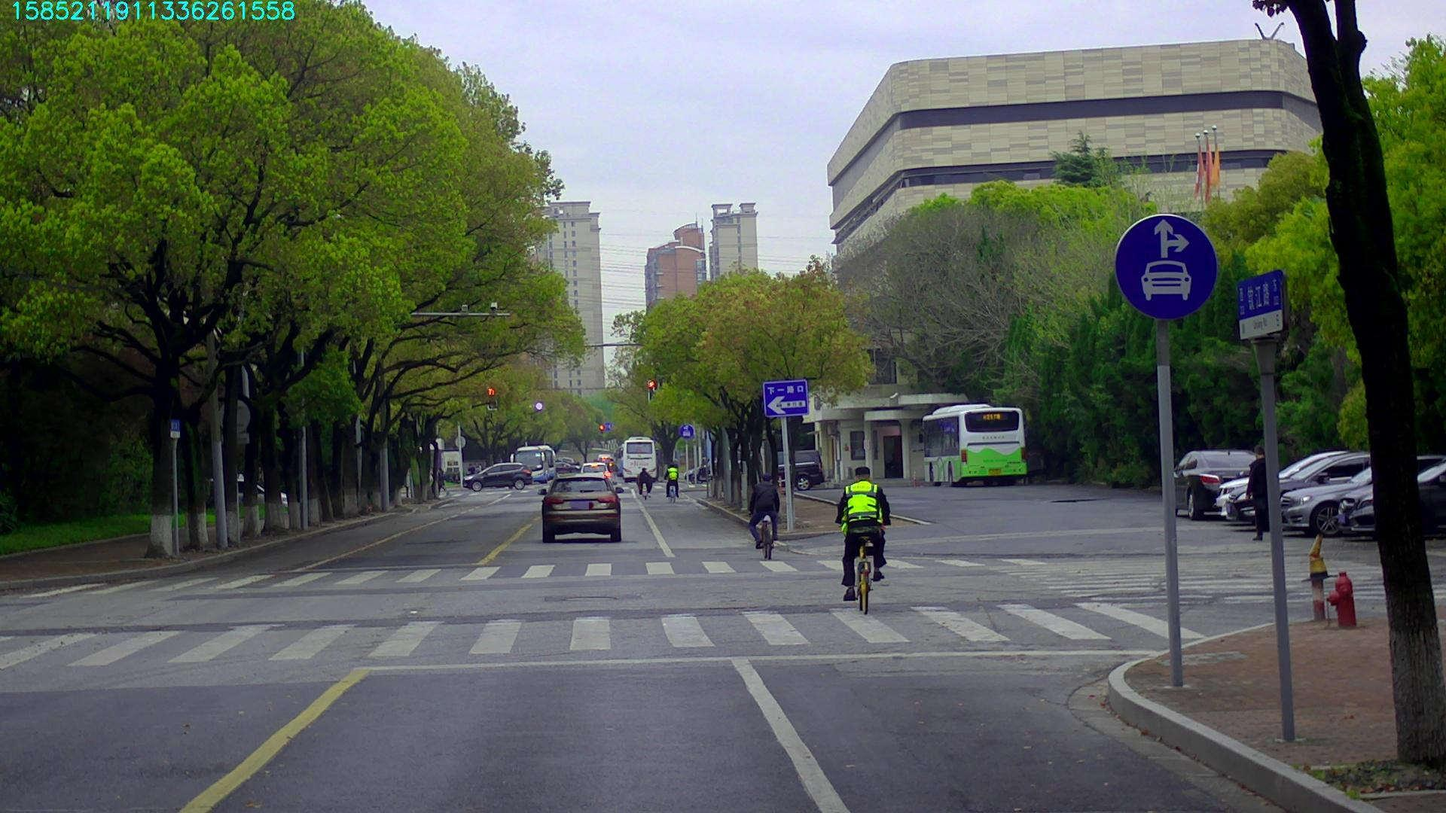red: (487, 386, 496, 410), (647, 379, 655, 401)
